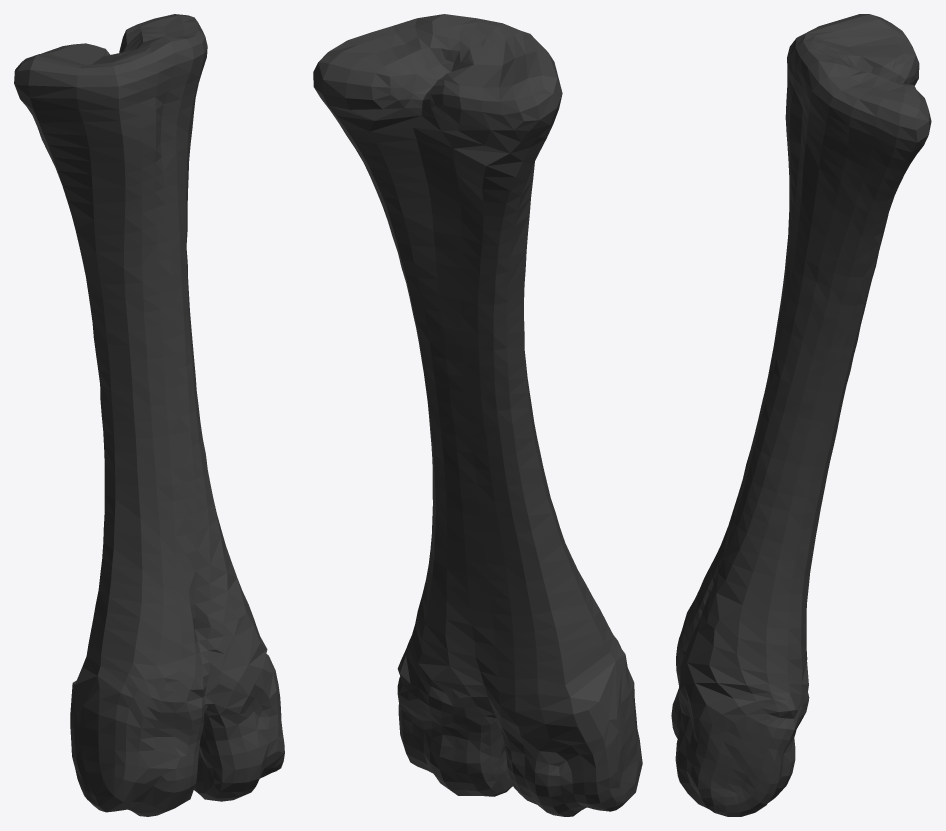
File: Cannon_bone_Cannon_bone.glb
3 views of the same model, side by side, from view 1: azimuth 30°, elevation 25°; view 2: azimuth 150°, elevation 25°; view 3: azimuth 270°, elevation 25° (orthographic). The views are drawn at different scales.
Visible parts, largest first — view 1: Cannon_bone_Cannon_bone; view 2: Cannon_bone_Cannon_bone; view 3: Cannon_bone_Cannon_bone.
Boxes of the visible parts, x1,y1,x2,y2 form: Cannon_bone_Cannon_bone: [14, 14, 284, 816]; Cannon_bone_Cannon_bone: [313, 14, 642, 816]; Cannon_bone_Cannon_bone: [671, 14, 931, 816].
Bounding box in the file's own units: 0.1327 × 0.4677 × 0.1479.
Materials: 1 (1 with a texture image).
